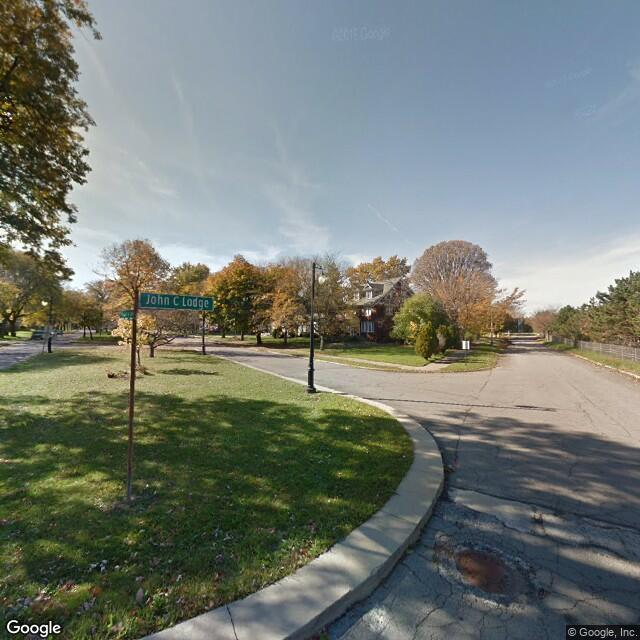litter: (89, 556, 113, 573), (208, 528, 229, 547), (8, 598, 30, 613), (298, 549, 313, 563), (86, 596, 98, 607), (306, 523, 319, 533), (170, 573, 186, 581), (141, 482, 152, 490), (446, 463, 454, 473)
